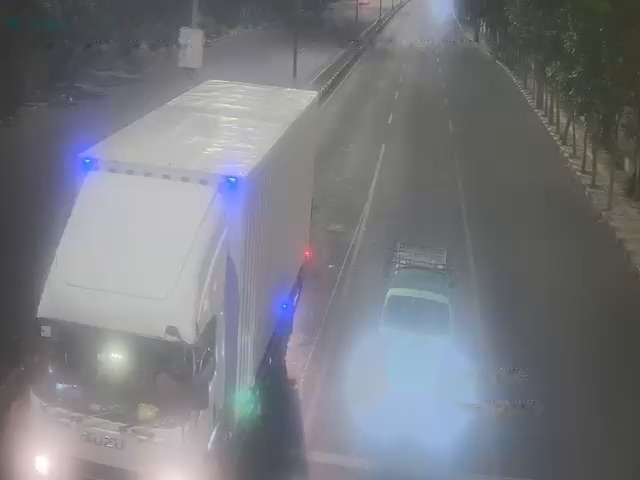Mobil: (371, 235, 458, 405)
Truk: (32, 89, 329, 473)
